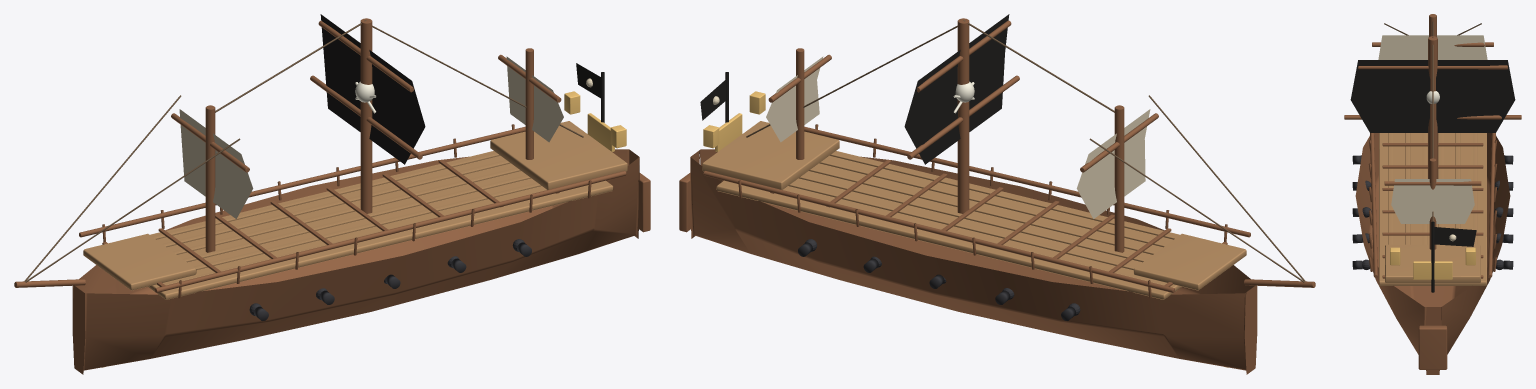
File: medium_pirate_ship.glb
3 renders of one model, left to right at view 1: azimuth 30°, elevation 25°; view 2: azimuth 150°, elevation 25°; view 3: azimuth 270°, elevation 25°, orthographic. The views are drawn at different scales.
Visible parts, largest first — view 1: PBR curved wooden hull, central raised deck, large black main sail, stern captain deck, bow forecastle deck, aged canvas fore sail, right gunwale rail, left gunwale rail, main mast, aged canvas mizzen sail, individual deck plank 3, individual deck plank 2 (+12 smaller); view 2: PBR curved wooden hull, central raised deck, large black main sail, stern captain deck, bow forecastle deck, aged canvas fore sail, left gunwale rail, right gunwale rail, main mast, aged canvas mizzen sail, individual deck plank 4, individual deck plank 5 (+13 smaller); view 3: large black main sail, PBR curved wooden hull, central raised deck, aged canvas mizzen sail, stern captain deck, aged canvas fore sail, black rudder, main mast, gold trimmed stern window, black pirate flag with skull, left gunwale rail, right gunwale rail (+19 smaller).
Boxes of the visible parts, <box> form: PBR curved wooden hull: <box>72,149,639,374</box>; central raised deck: <box>148,151,613,299</box>; large black main sail: <box>320,14,425,164</box>; stern captain deck: <box>490,121,627,189</box>; bow forecastle deck: <box>83,233,196,290</box>; aged canvas fore sail: <box>179,109,253,218</box>; right gunwale rail: <box>155,171,626,292</box>; left gunwale rail: <box>79,126,525,237</box>; main mast: <box>360,18,372,213</box>; aged canvas mizzen sail: <box>506,56,563,142</box>; individual deck plank 3: <box>183,175,530,262</box>; individual deck plank 2: <box>193,182,541,270</box>; PBR curved wooden hull: <box>690,149,1257,374</box>; central raised deck: <box>716,151,1181,299</box>; large black main sail: <box>904,14,1009,164</box>; stern captain deck: <box>702,121,839,189</box>; bow forecastle deck: <box>1133,233,1246,290</box>; aged canvas fore sail: <box>1076,109,1150,218</box>; left gunwale rail: <box>703,171,1174,292</box>; right gunwale rail: <box>804,126,1250,237</box>; main mast: <box>957,18,969,213</box>; aged canvas mizzen sail: <box>766,56,823,142</box>; individual deck plank 4: <box>799,175,1146,262</box>; individual deck plank 5: <box>788,182,1136,270</box>; large black main sail: <box>1350,60,1515,132</box>; PBR curved wooden hull: <box>1355,133,1510,374</box>; central raised deck: <box>1379,133,1486,285</box>; aged canvas mizzen sail: <box>1391,179,1474,223</box>; stern captain deck: <box>1385,244,1480,283</box>; aged canvas fore sail: <box>1378,35,1487,59</box>; black rudder: <box>1418,325,1447,369</box>; main mast: <box>1428,36,1437,178</box>; gold trimmed stern window: <box>1413,261,1452,279</box>; black pirate flag with skull: <box>1434,227,1476,246</box>; left gunwale rail: <box>1488,133,1495,277</box>; right gunwale rail: <box>1370,133,1377,277</box>.
Size of the model in its own units: 12.88 by 5.55 by 3.85.
